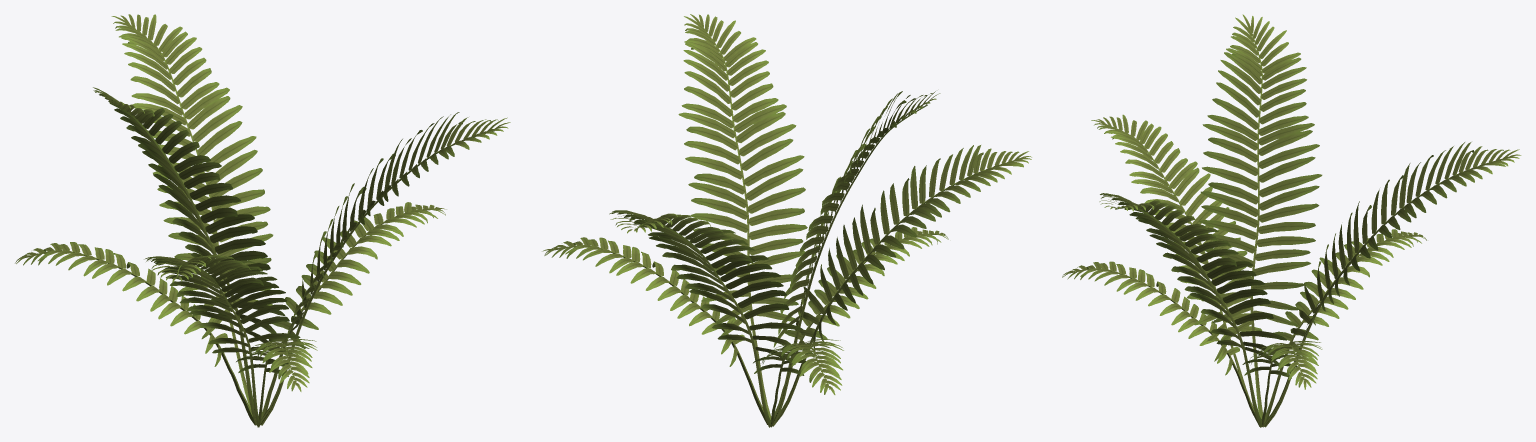
Rendered from palmeira3.fbx.
The picture shows the model from 3 angles, left to right: view 1: azimuth 30°, elevation 25°; view 2: azimuth 150°, elevation 25°; view 3: azimuth 270°, elevation 25°; orthographic projection. The views are drawn at different scales.
Parts seen in each view (by area): view 1: MH_Fern01_03_Shape; view 2: MH_Fern01_03_Shape; view 3: MH_Fern01_03_Shape.
Boxes of the visible parts, box(x1,y1,x2,y2) form: MH_Fern01_03_Shape: box(15, 14, 510, 427); MH_Fern01_03_Shape: box(542, 14, 1031, 427); MH_Fern01_03_Shape: box(1062, 14, 1521, 427).
Size of the model in its own units: 49.15 by 44.37 by 54.36.
2 materials, 2 textured.
